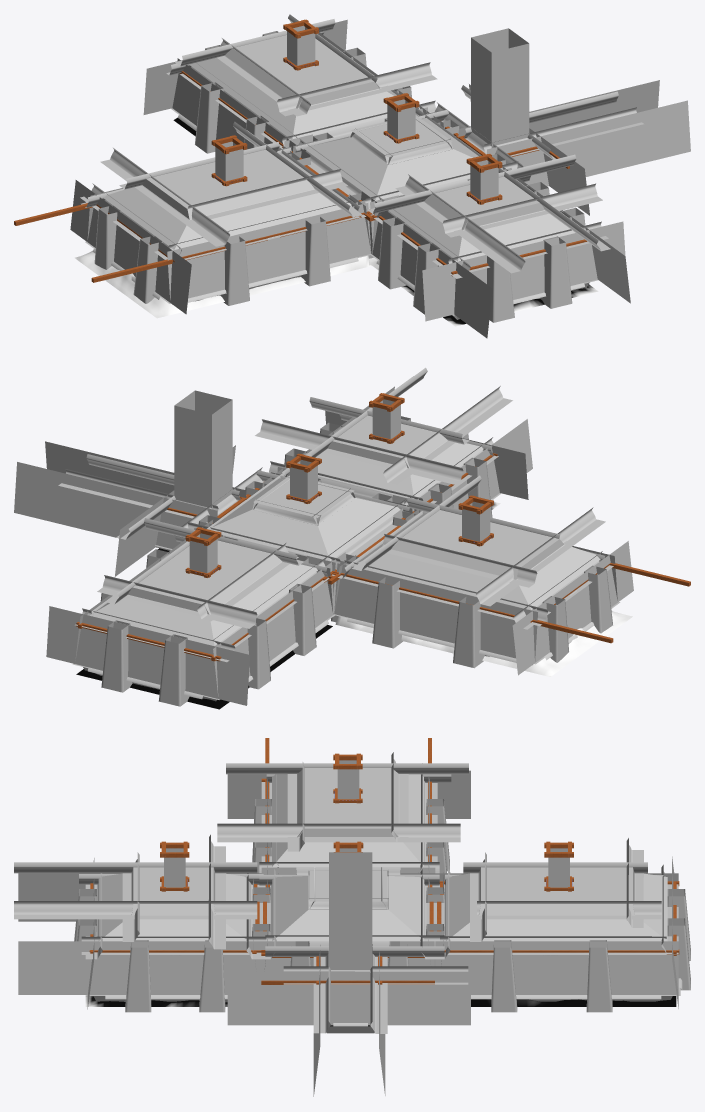
Rendered from ArmoryLevel.fbx.
The picture shows the model from 3 angles, top to bottom: view 1: azimuth 30°, elevation 25°; view 2: azimuth 150°, elevation 25°; view 3: azimuth 270°, elevation 25°; orthographic projection. The views are drawn at different scales.
Parts seen in each view (by area): view 1: Plane__7_, Plane__6__1, Plane__8__1, Plane__6_, Plane__3__1, Plane__25_, Plane__21_, Plane__5_, Plane__5__1, Plane__4__1, Plane__23_, Plane__8__2 (+37 smaller); view 2: Plane__7_, Plane__6__1, Plane__5__2, Plane__3_, Plane__4__2, Plane__6_, Plane__25_, Plane__21_, Plane__5__1, Plane__8__2, Cube__24__1, Plane__23_ (+37 smaller); view 3: Plane__6__1, Plane__9_, Plane__7_, Plane__8_, Plane__4_, Plane__6_, Plane__21_, Plane__25_, Cube__23_, Cube__28_, Plane__5__1, Cube__22__3 (+33 smaller).
Part boxes in pixels (box(x1,y1,x2,y2)): Plane__7_: box(103, 141, 351, 249); Plane__6__1: box(190, 25, 396, 139); Plane__8__1: box(487, 100, 690, 186); Plane__6_: box(388, 160, 575, 261); Plane__3__1: box(167, 203, 371, 299); Plane__25_: box(471, 28, 529, 146); Plane__21_: box(305, 118, 478, 200); Plane__5_: box(422, 221, 625, 321); Plane__5__1: box(70, 180, 191, 314); Plane__4__1: box(371, 211, 492, 338); Plane__23_: box(351, 99, 452, 157); Plane__8__2: box(172, 58, 293, 151); Plane__7_: box(354, 501, 600, 609); Plane__6__1: box(89, 533, 317, 645); Plane__5__2: box(46, 606, 250, 705); Plane__3_: box(14, 462, 217, 550); Plane__4__2: box(334, 563, 537, 661); Plane__6_: box(315, 399, 483, 498); Plane__25_: box(174, 390, 232, 508); Plane__21_: box(211, 478, 400, 561); Plane__5__1: box(512, 541, 633, 675); Plane__8__2: box(213, 564, 334, 696); Cube__24__1: box(255, 419, 463, 484); Plane__23_: box(253, 460, 354, 517); Plane__6__1: box(446, 848, 667, 941); Plane__9_: box(227, 971, 470, 1025); Plane__7_: box(272, 760, 423, 866); Plane__8_: box(18, 941, 261, 994); Plane__4_: box(435, 941, 678, 994); Plane__6_: box(98, 848, 246, 941); Plane__21_: box(272, 876, 424, 941); Plane__25_: box(329, 852, 372, 969); Cube__23_: box(14, 901, 257, 919); Cube__28_: box(217, 823, 460, 842); Plane__5__1: box(227, 770, 470, 818); Cube__22__3: box(14, 862, 257, 873).
Bounding box in the file's own units: 8645 × 2237 × 7793.
